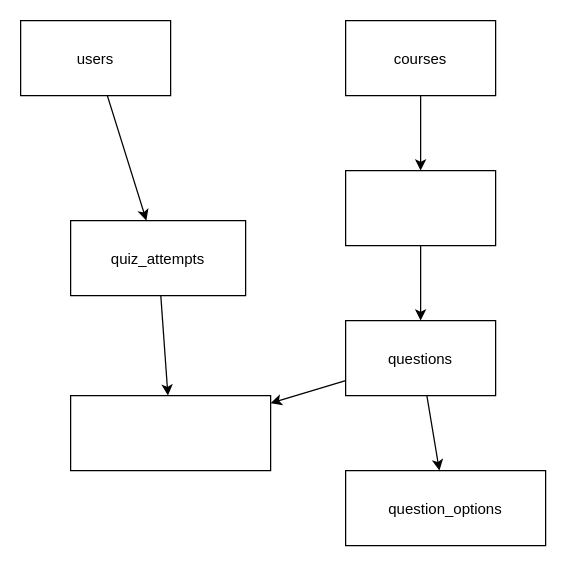
Some shapes in this 566 by 566 pixel diagram are drawn without their labels. Each missing label, with the centre of its shape:
"quizzes" belongs at pixel 420 207.
"student_answers" belongs at pixel 170 432.
